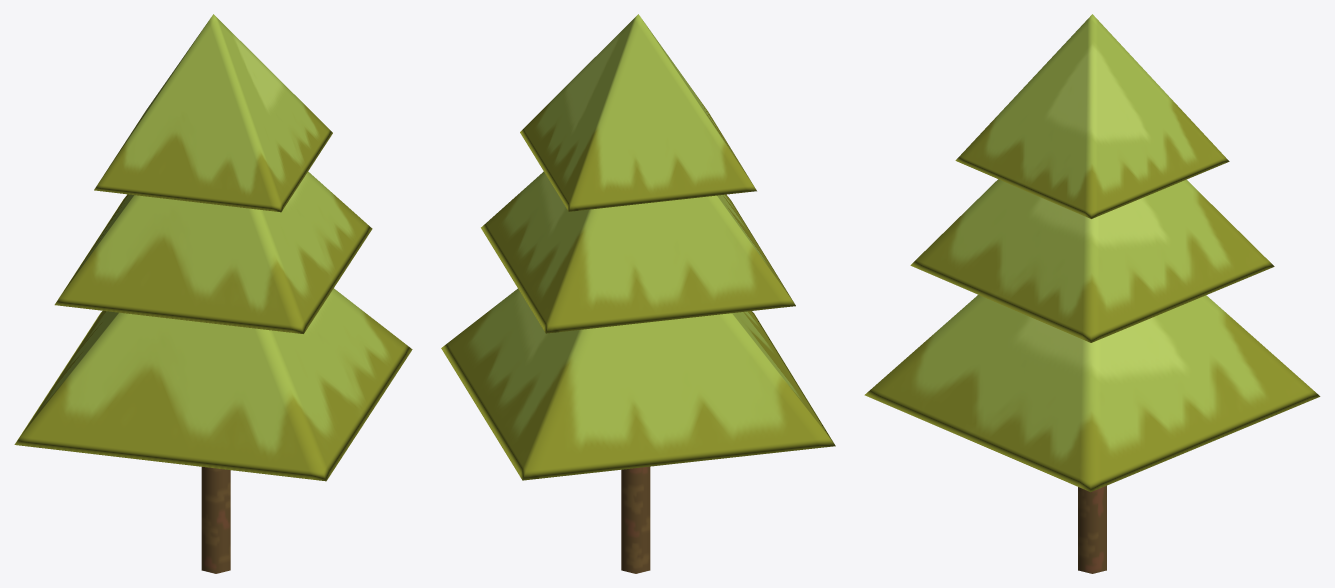
Rendered from wood_cone_3.fbx.
3 views of the same model, side by side, from view 1: azimuth 30°, elevation 25°; view 2: azimuth 150°, elevation 25°; view 3: azimuth 270°, elevation 25° (orthographic).
Visible parts, largest first — view 1: polySurface7; view 2: polySurface7; view 3: polySurface7.
Boxes of the visible parts, x1,y1,x2,y2 form: polySurface7: [14, 14, 412, 573]; polySurface7: [441, 14, 835, 573]; polySurface7: [864, 14, 1320, 573].
Bounding box in the file's own units: 31.42 × 41.91 × 31.42.
